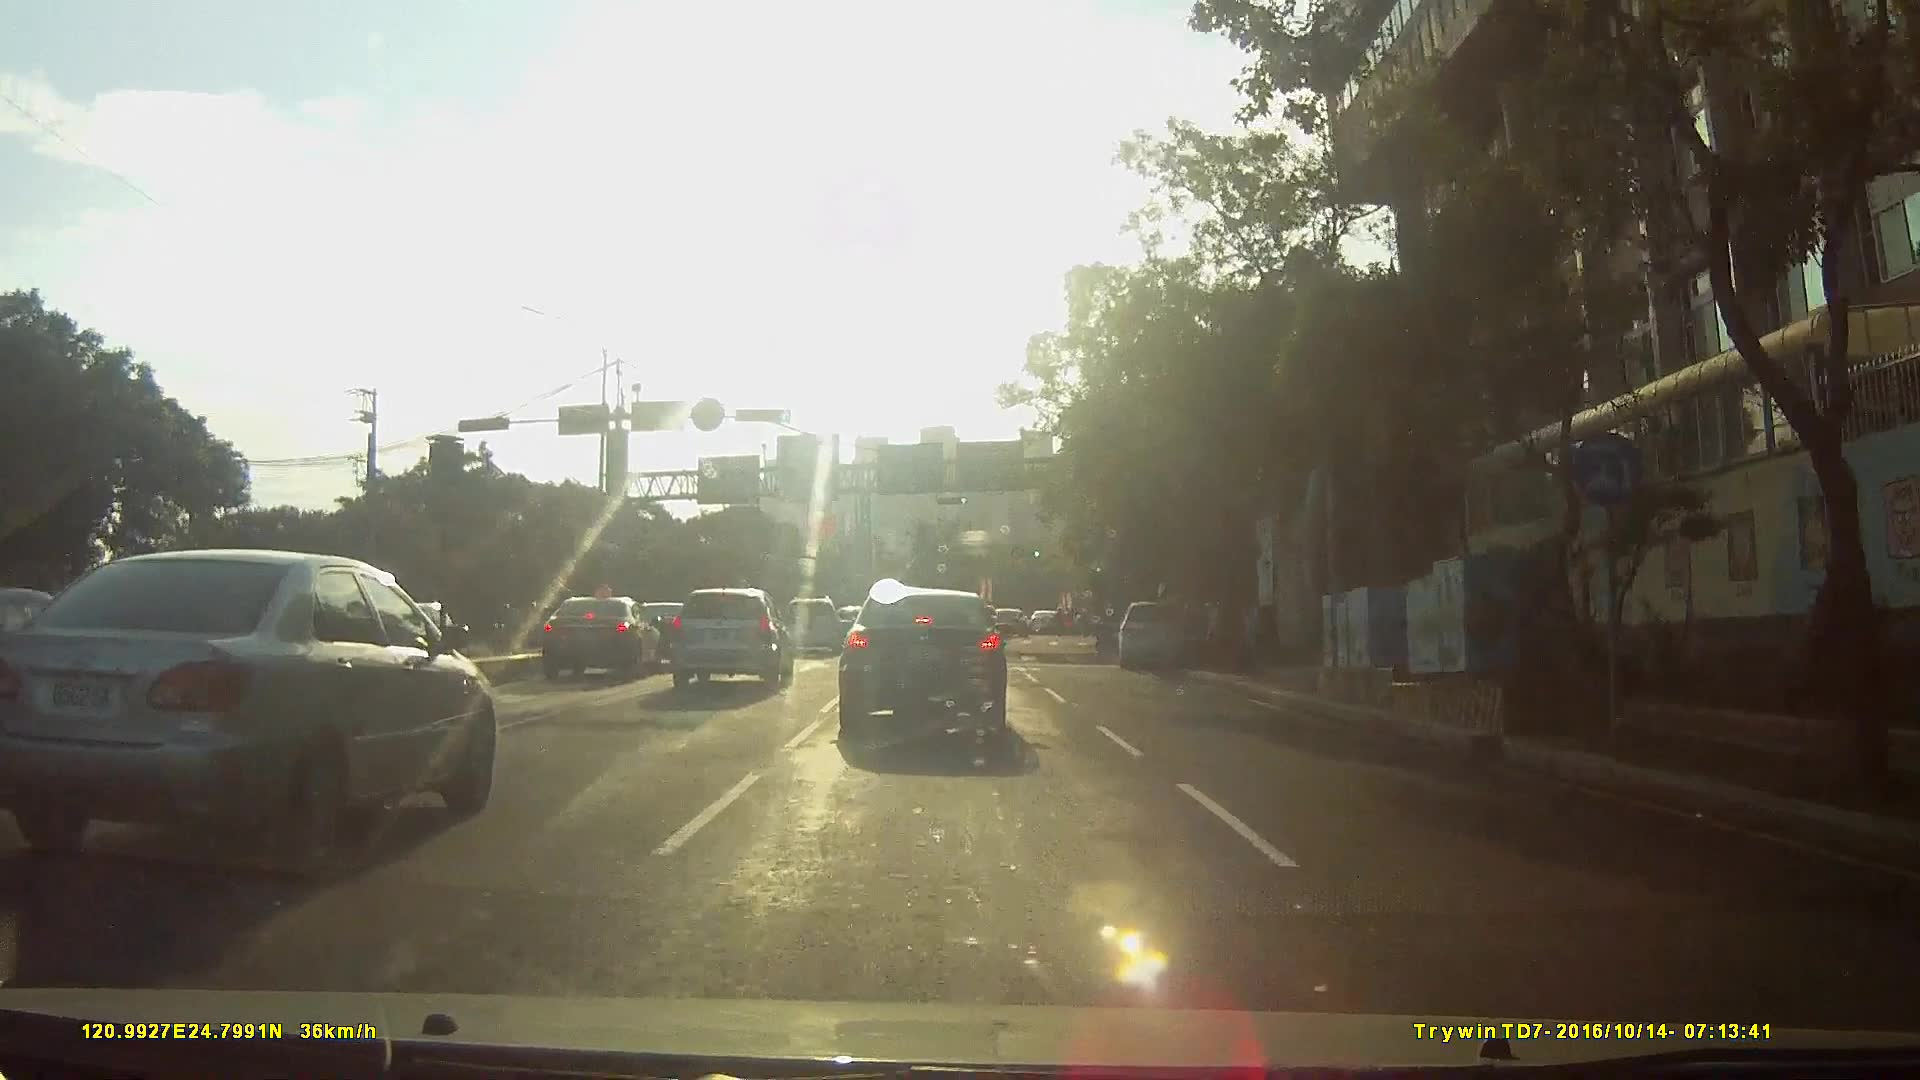pedestrian: (1201, 599, 1223, 661)
vehicle: (1, 545, 514, 887), (828, 602, 1023, 770), (662, 586, 793, 691), (518, 593, 650, 685), (1121, 597, 1202, 672), (615, 599, 689, 665), (778, 596, 847, 658), (1026, 607, 1068, 635), (991, 605, 1030, 637)
